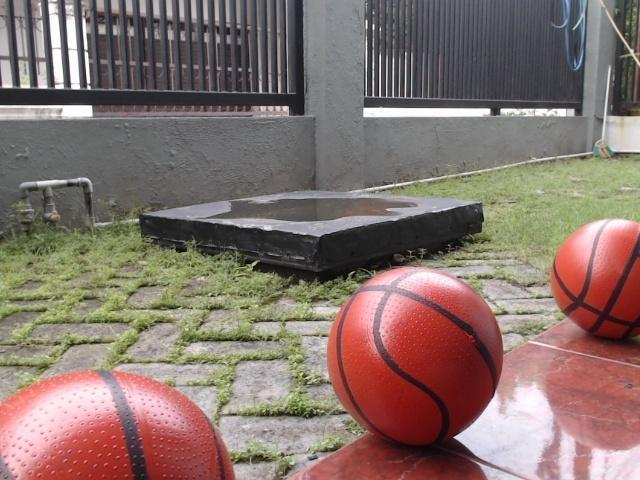Sports-Ball: (310, 262, 510, 450), (0, 375, 233, 480), (551, 216, 640, 345)
